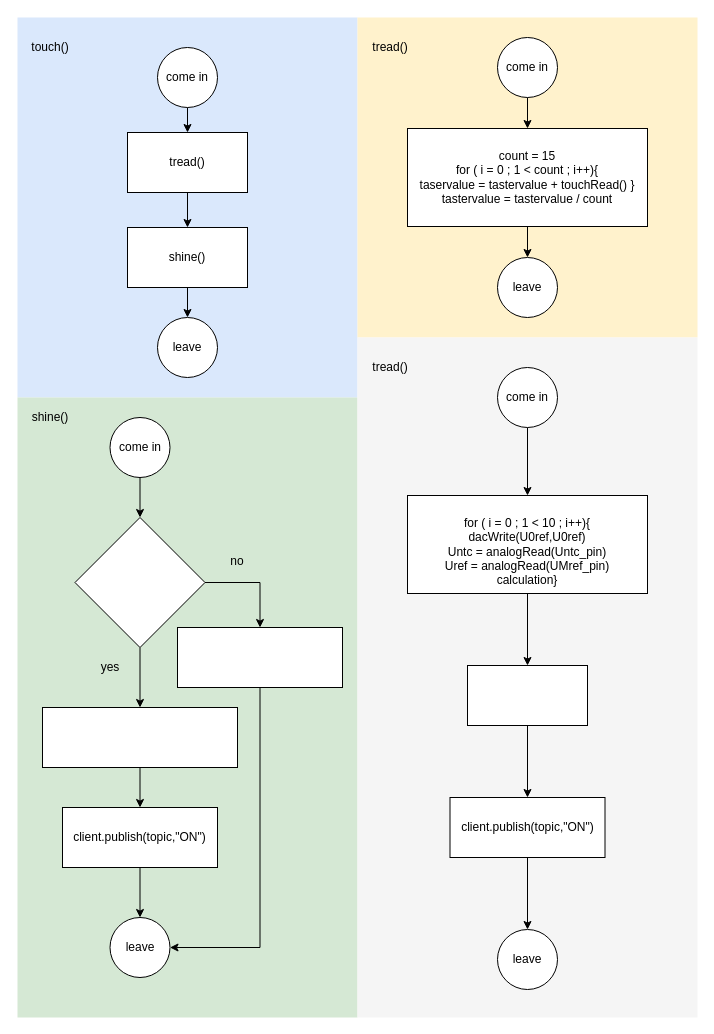
This 714x1034 diagram has some shape labels left out. Each missing label, with the centre of its shape:
digitalWrite(outputpin,HIGH): [140,737]
digitalWrite(outputpin,LOW): [259,657]
if tastervalue < tresh: [139,582]
temp/10: [527,695]
